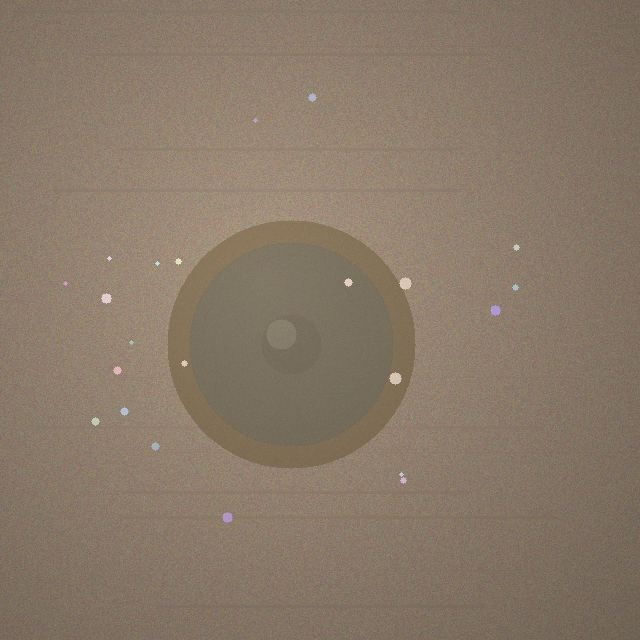overburn: (167, 220, 415, 468)
